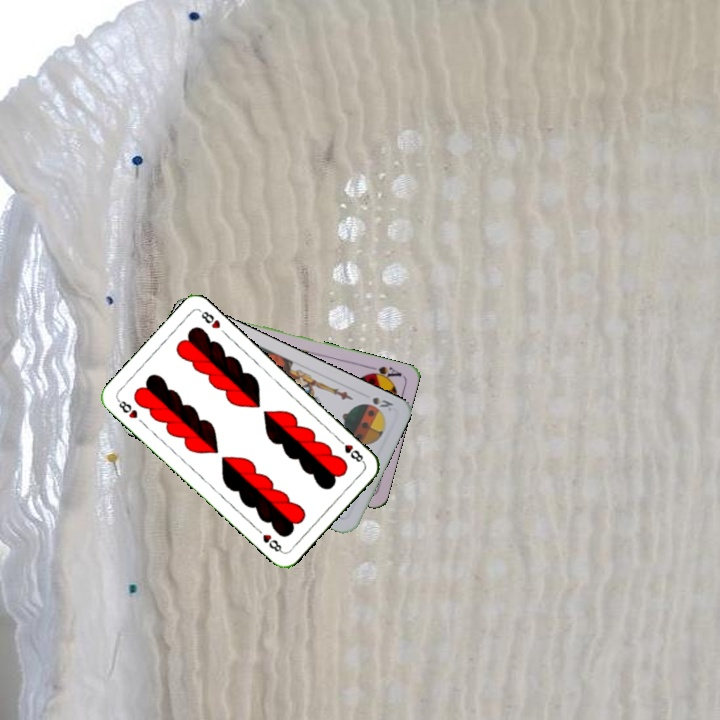H8: (334, 435, 367, 466), (113, 395, 140, 421)
SA: (362, 362, 404, 383)
SK: (358, 393, 396, 415)
